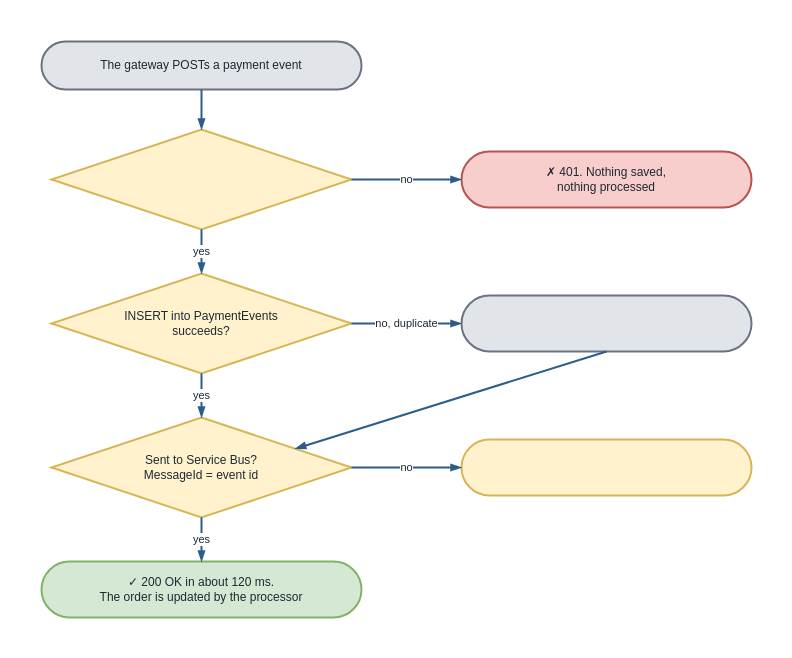
The diagram is 792 pixels wide and 658 high, and some of its shapes have lost their labels. The shapes that lost their labels are listed below. From the top down, each one's centre as x and y in pixels, then its label:
At (201,179): "Signature valid? HMAC over the raw body".
At (606,323): "Error 2601: already saved. A redelivery. Carry on".
At (606,467): "500. The gateway retries, and the timer sweeps it".
